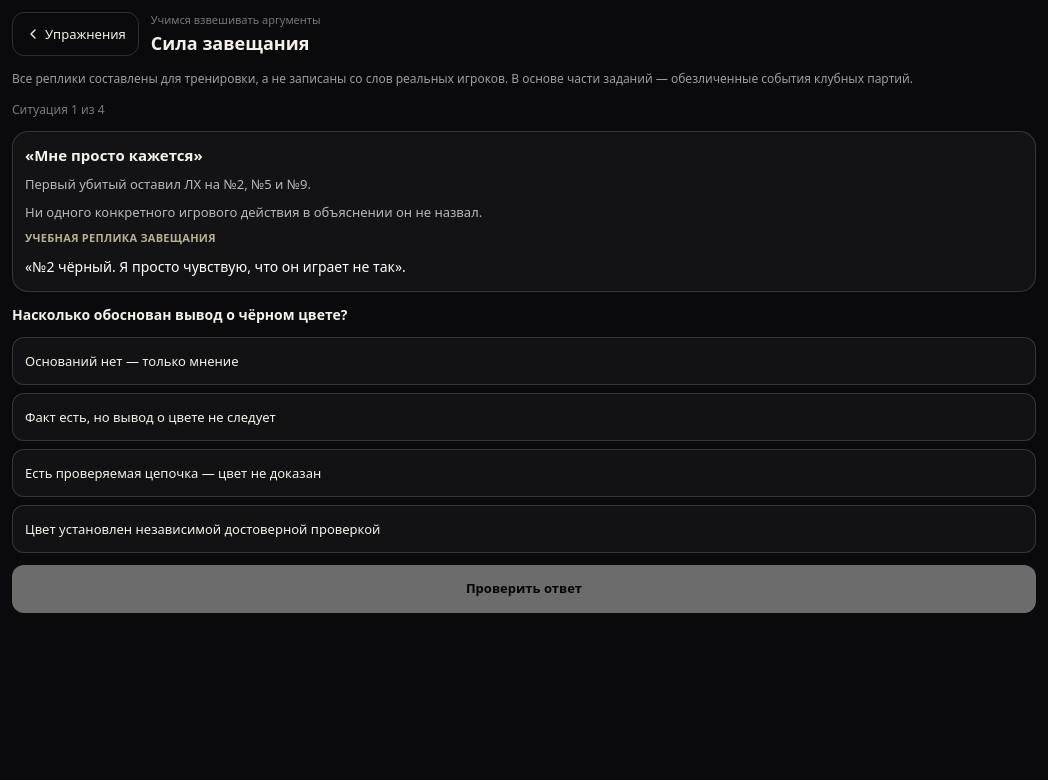
Test: mobile practice › withholds explanation until choice is recorded and continues to another case
expect the text "реплики составлены для тренировки" is shown: met, box [12,70,913,86]
expect the button with test id "testament-check" is disabled: met, box [12,564,1036,612]
Click the button with test id "testament-answer-no_reason" at (132, 360), box [12,336,1036,384]
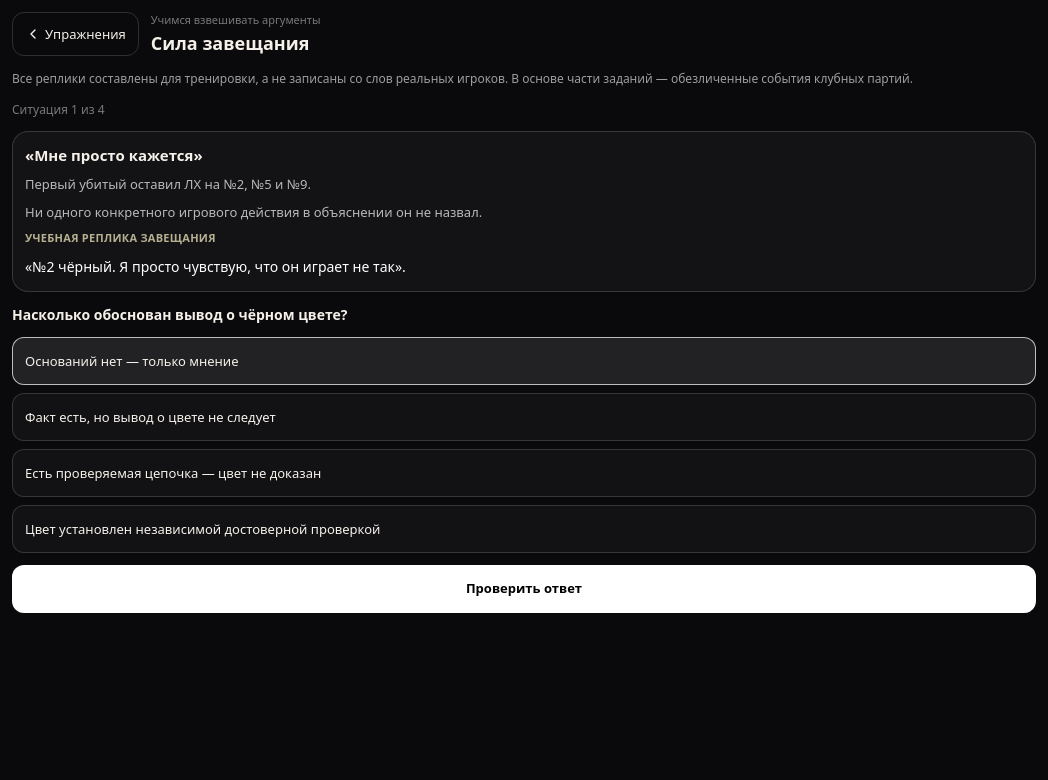
Click the button with test id "testament-check" at (524, 588), box [12,564,1036,612]
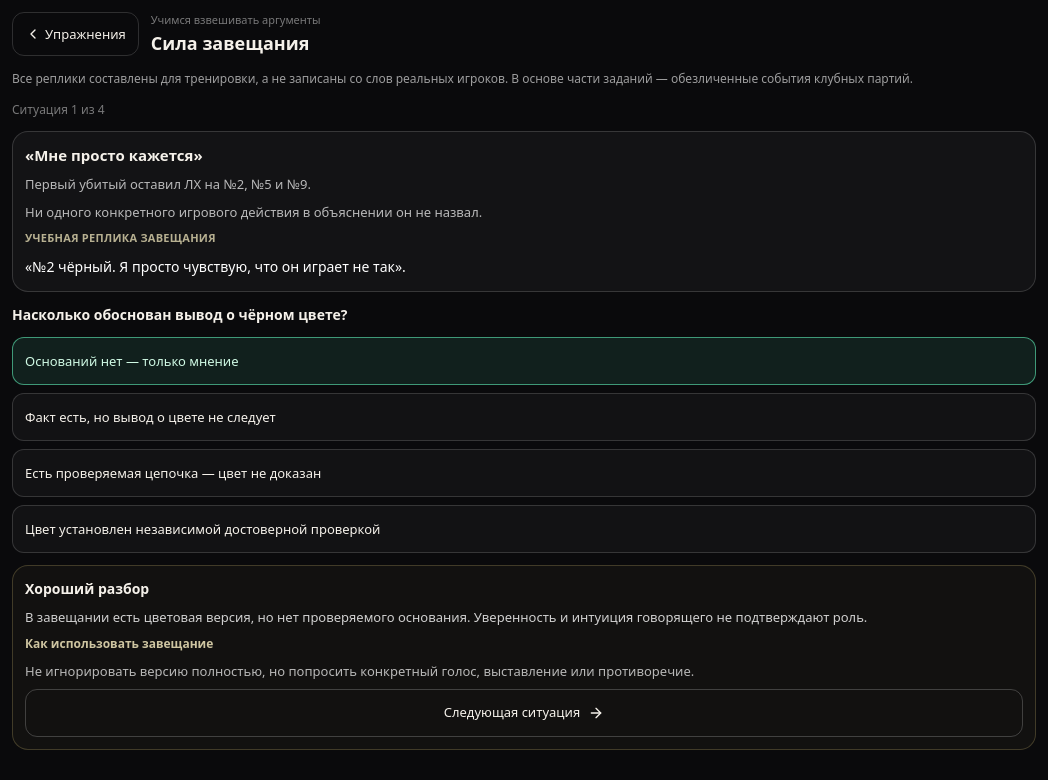
expect the element with test id "testament-explanation" shows "Хороший разбор": met, box [25,578,149,598]
Click the button "Следующая ситуация" at (524, 712), box [25,688,1023,736]
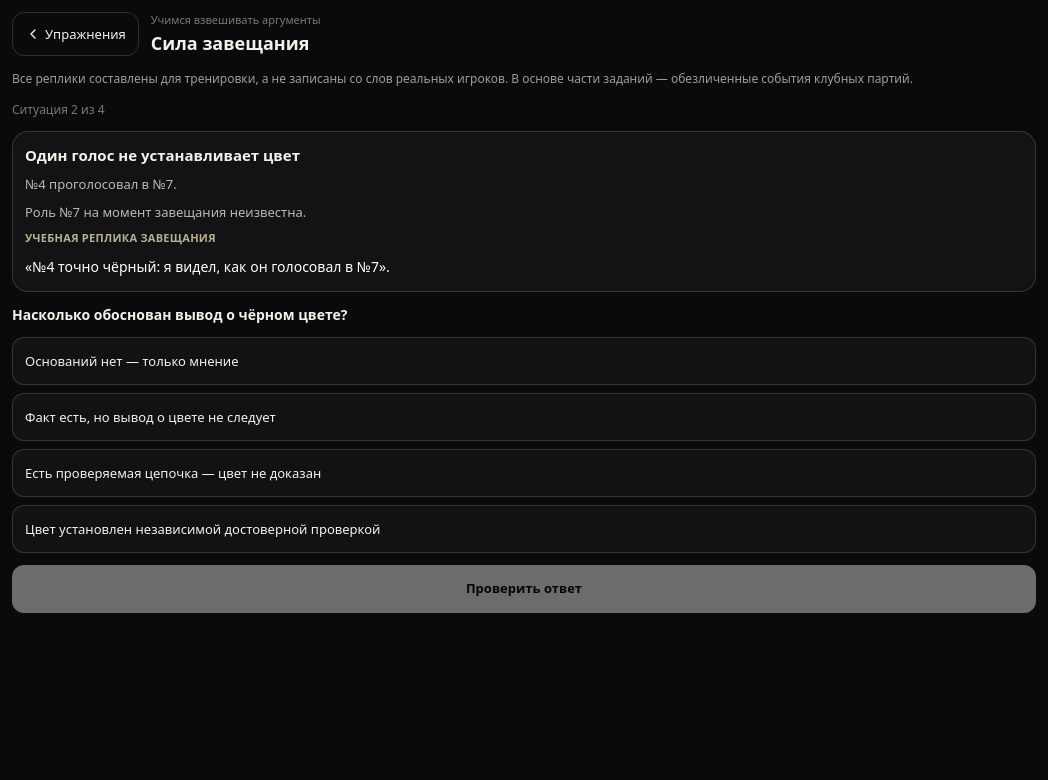
expect the element with test id "anonymous-testament-case" shows "Один голос": met, box [25,144,300,164]
expect the element with test id "testament-explanation" is gone: met
